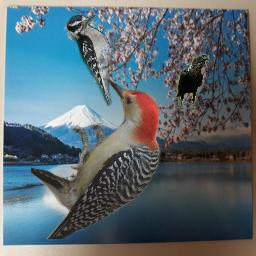Crow: (175, 53, 210, 111)
Woodpecker: (31, 77, 166, 239), (67, 15, 125, 106)
